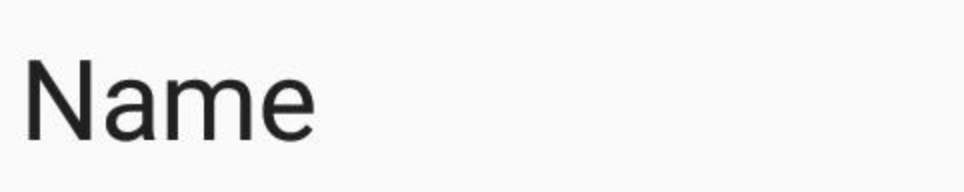TextView: (1, 1, 963, 191)
